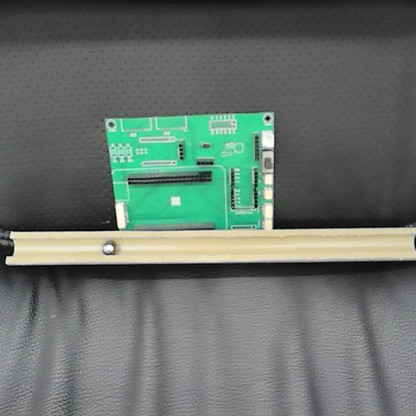ironball: (100, 237, 118, 255)
